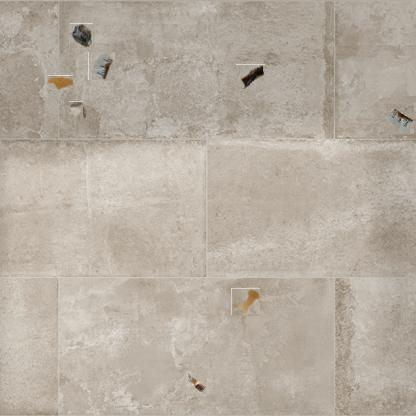dirty: (386, 106, 416, 134), (237, 63, 264, 91), (88, 52, 115, 80), (69, 24, 94, 48), (185, 370, 207, 394), (68, 103, 85, 121)
liquid: (232, 288, 259, 315), (47, 75, 73, 90)
